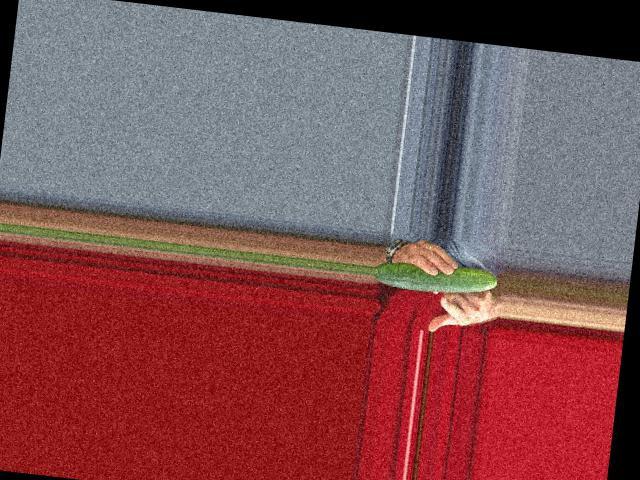cucumber: (373, 256, 498, 299)
